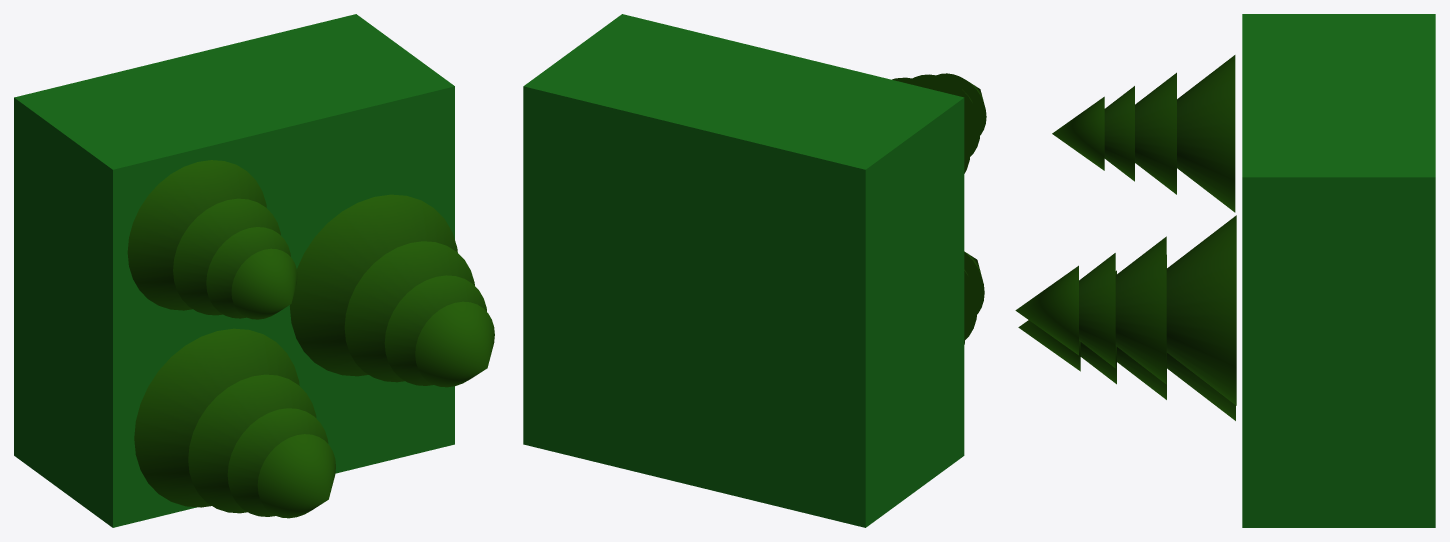
File: trees.fbx
The picture shows the model from 3 angles, left to right: view 1: azimuth 30°, elevation 25°; view 2: azimuth 150°, elevation 25°; view 3: azimuth 270°, elevation 25°; orthographic projection. The views are drawn at different scales.
Visible parts, largest first — view 1: trees; view 2: trees; view 3: trees.
Part boxes in pixels (x1,y1,x2,y2): trees: (14, 14, 494, 527); trees: (523, 14, 986, 527); trees: (1015, 14, 1435, 527).
Bounding box in the file's own units: 100 × 100 × 109.
